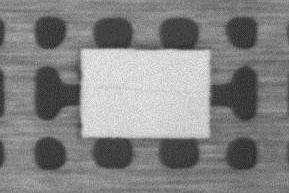DIE_CRACK: (83, 86, 209, 98)
